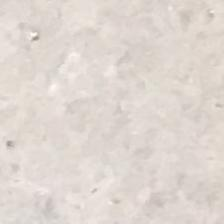Non_Crack: (18, 36, 219, 222)
